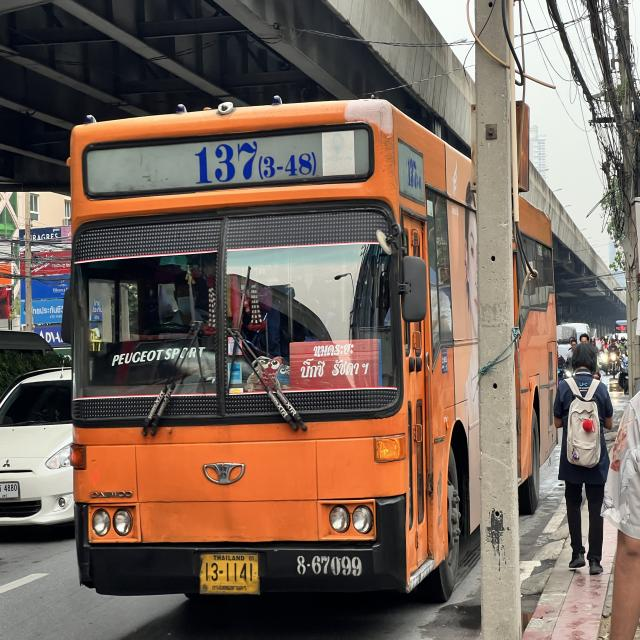BMTA-bus: (61, 100, 522, 600)
Bus-Line-Number: (187, 134, 324, 198)
Destination-Sign-Extra-Bus: (292, 340, 381, 390)
